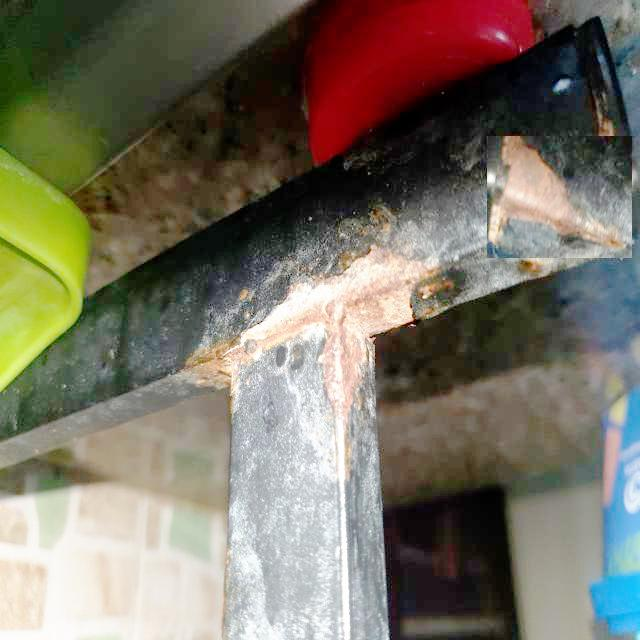Corrosion: (186, 246, 438, 458), (490, 136, 626, 247)
